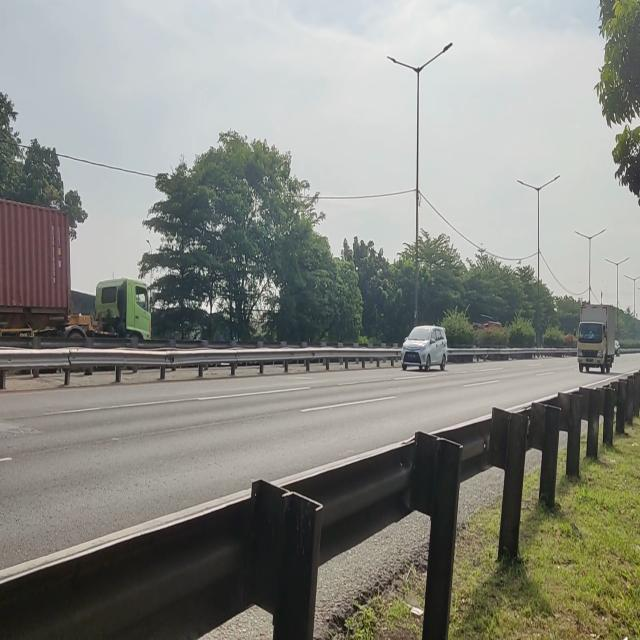Golongan I: (397, 323, 451, 378)
